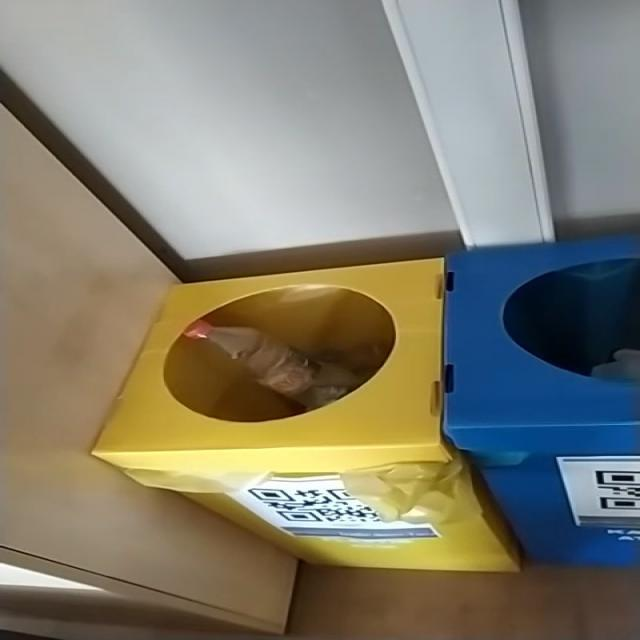Plastic: (183, 320, 363, 410)
